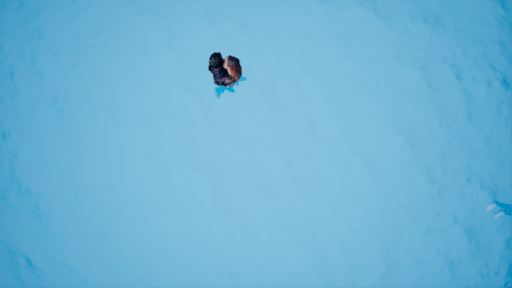person: (202, 45, 253, 100)
